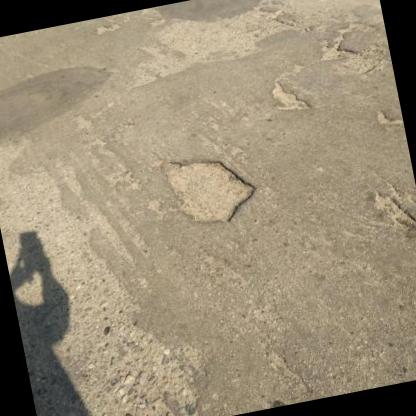pothole: (156, 141, 262, 235), (369, 182, 416, 234), (268, 74, 313, 118), (313, 33, 358, 66)
